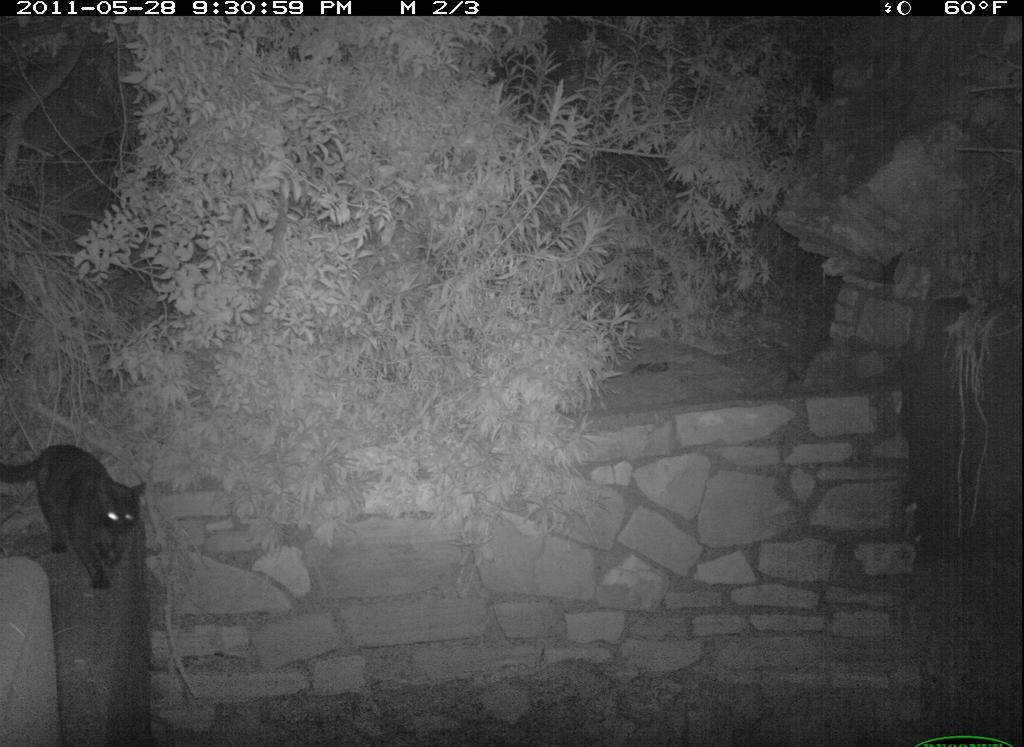cat: (7, 433, 158, 592)
